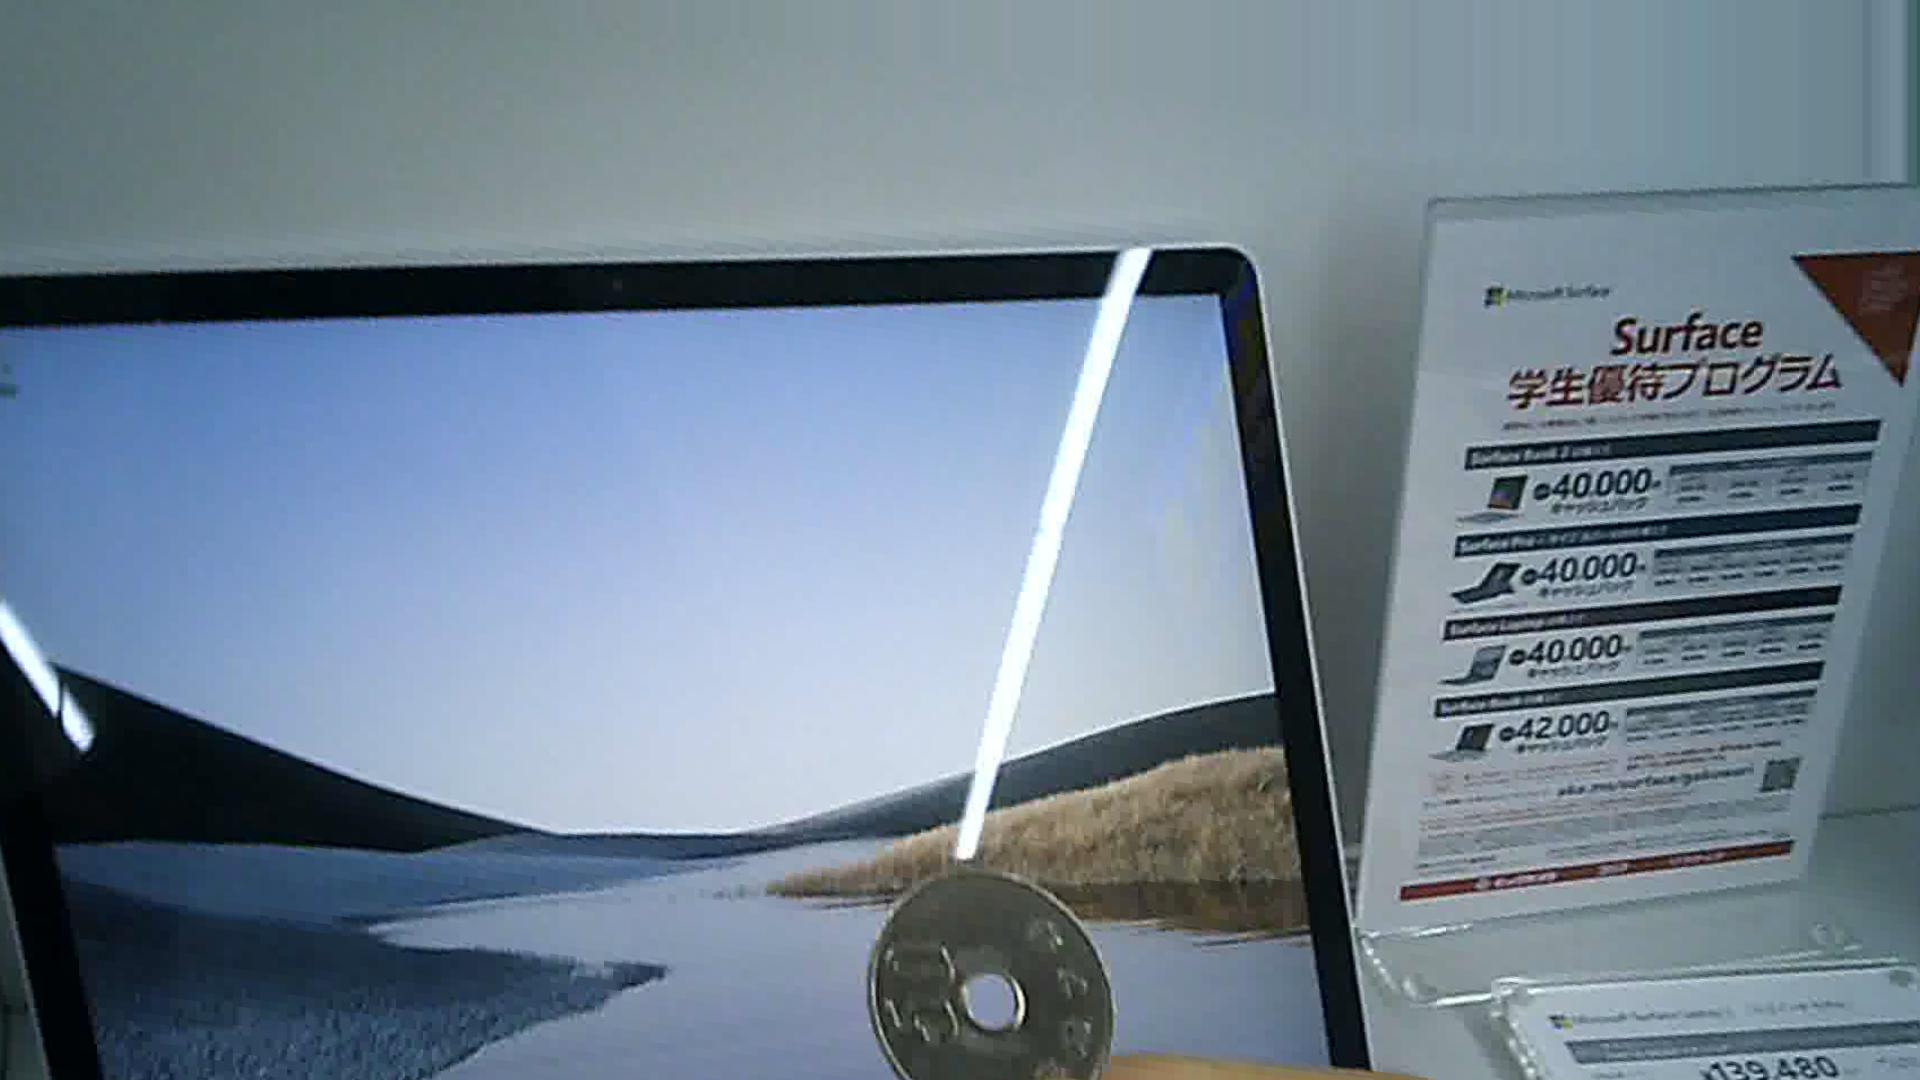50 Yen: (851, 876, 1116, 1079)
